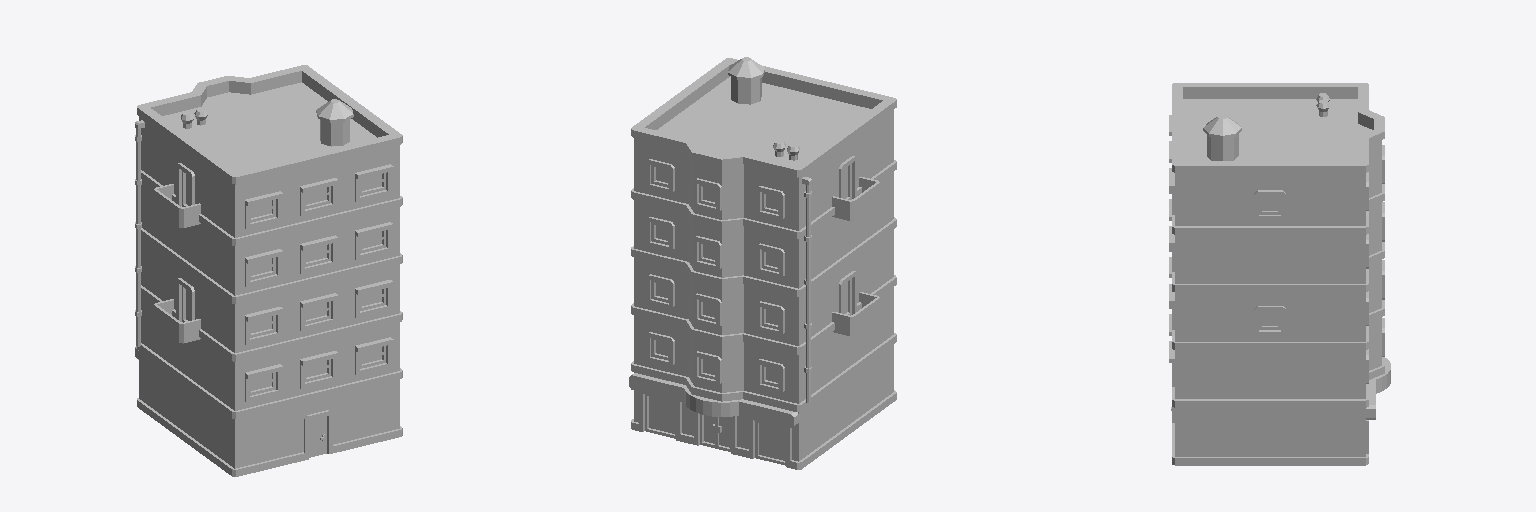
The model's file is building-l.obj.
3 renders of one model, left to right at view 1: azimuth 30°, elevation 25°; view 2: azimuth 150°, elevation 25°; view 3: azimuth 270°, elevation 25°, orthographic.
Visible parts, largest first — view 1: building-l; view 2: building-l; view 3: building-l.
Part boxes in pixels (x1,y1,x2,y2): building-l: (135, 65, 402, 476); building-l: (629, 57, 896, 469); building-l: (1169, 83, 1390, 465).
Bounding box in the file's own units: 1.37 × 2.27 × 1.4.